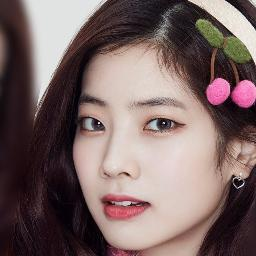face: (82, 54, 200, 238)
